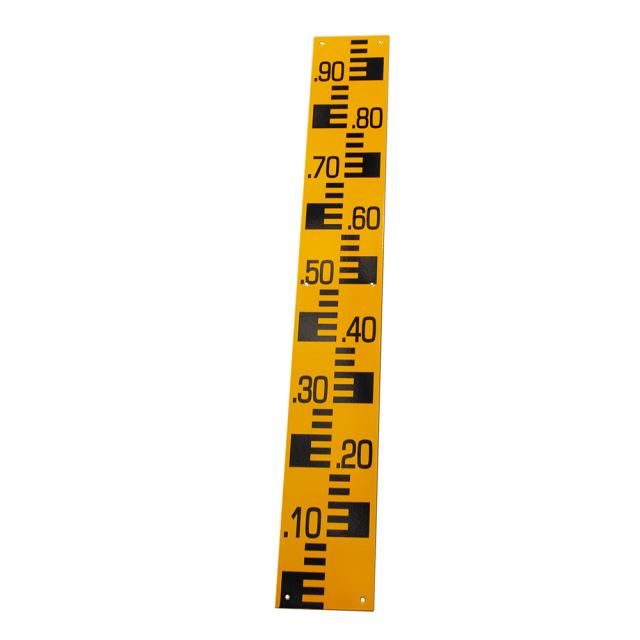ruler: (256, 22, 398, 623)
value: (277, 502, 327, 541), (292, 252, 340, 287), (300, 148, 346, 184), (287, 372, 332, 408), (332, 436, 377, 472), (334, 313, 382, 346), (345, 102, 388, 136), (308, 52, 347, 89), (343, 201, 382, 235)
